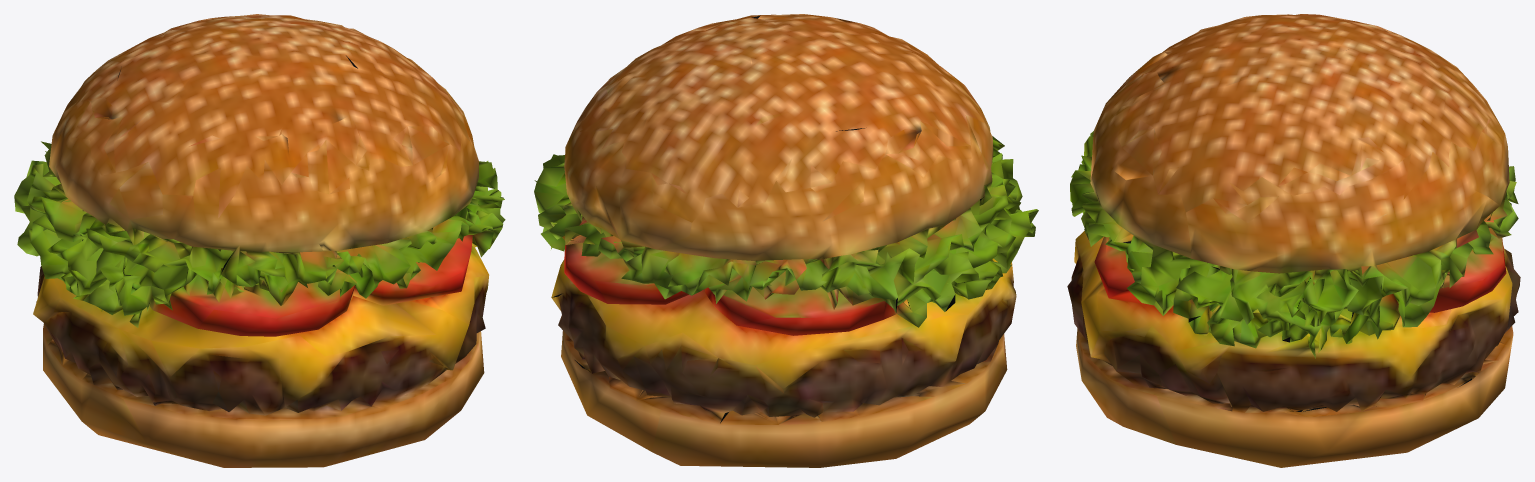
Rendered from food-hamburger-phone.glb.
3 renders of one model, left to right at view 1: azimuth 30°, elevation 25°; view 2: azimuth 150°, elevation 25°; view 3: azimuth 270°, elevation 25°, orthographic.
Parts seen in each view (by area): view 1: Model; view 2: Model; view 3: Model.
Part boxes in pixels (x1=…): Model: x1=14, y1=14, x2=505, y2=467; Model: x1=534, y1=14, x2=1038, y2=467; Model: x1=1067, y1=14, x2=1520, y2=467.
Bounding box in the file's own units: 1.9 × 1.46 × 1.74.
Materials: 1 (1 with a texture image).
